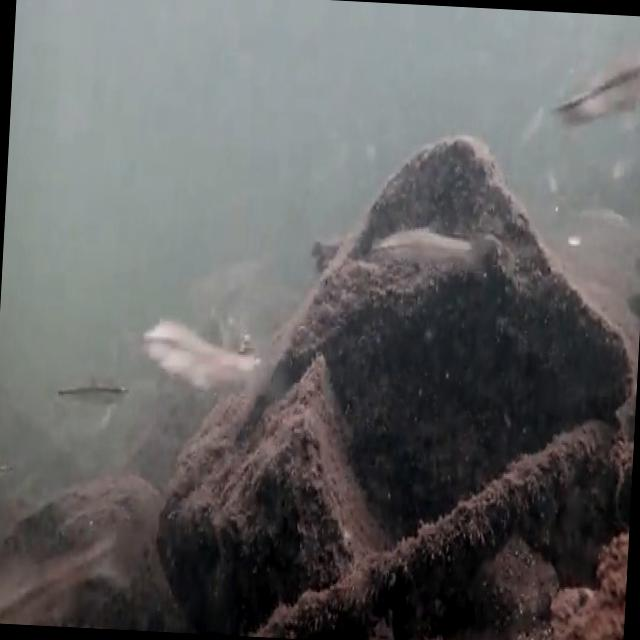Cakil Baligi: (56, 366, 130, 418)
